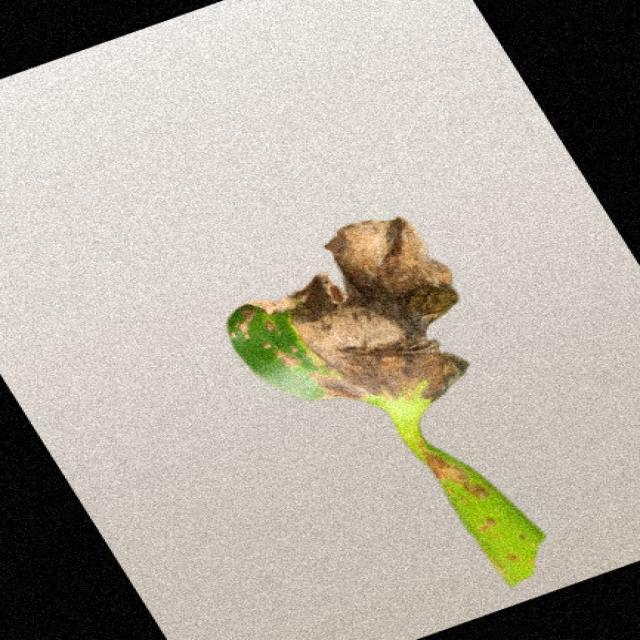daun berpenyakit karat: (228, 219, 545, 586)
